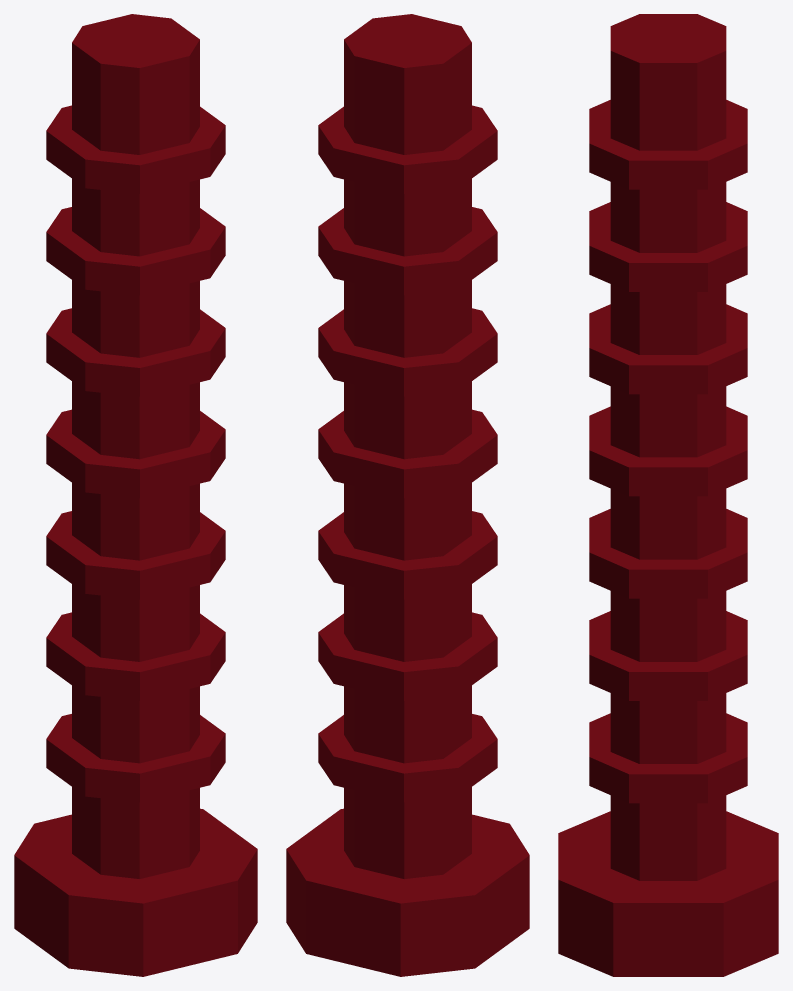
Rendered from Tower2.fbx.
The picture shows the model from 3 angles, left to right: view 1: azimuth 30°, elevation 25°; view 2: azimuth 150°, elevation 25°; view 3: azimuth 270°, elevation 25°; orthographic projection.
Visible parts, largest first — view 1: Plane.001; view 2: Plane.001; view 3: Plane.001.
Part boxes in pixels (x1,y1,x2,y2): Plane.001: (14, 14, 257, 976); Plane.001: (286, 14, 529, 976); Plane.001: (558, 14, 778, 976).
Size of the model in its own units: 200 by 894 by 200.
